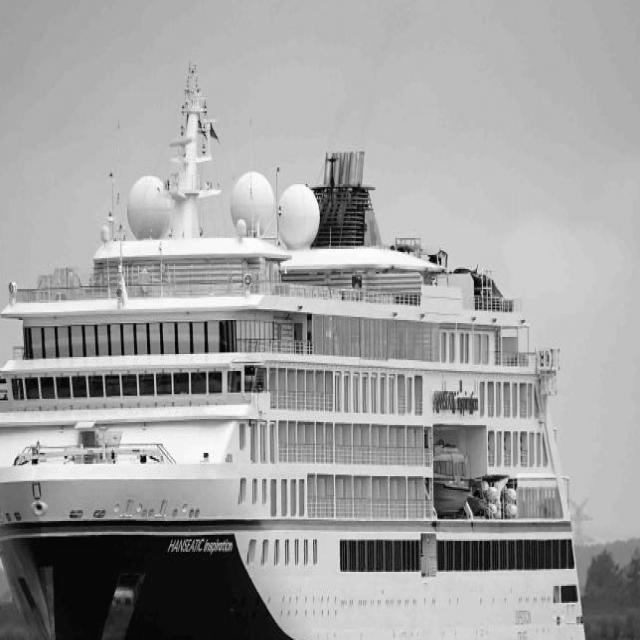cruises: (1, 59, 592, 640)
